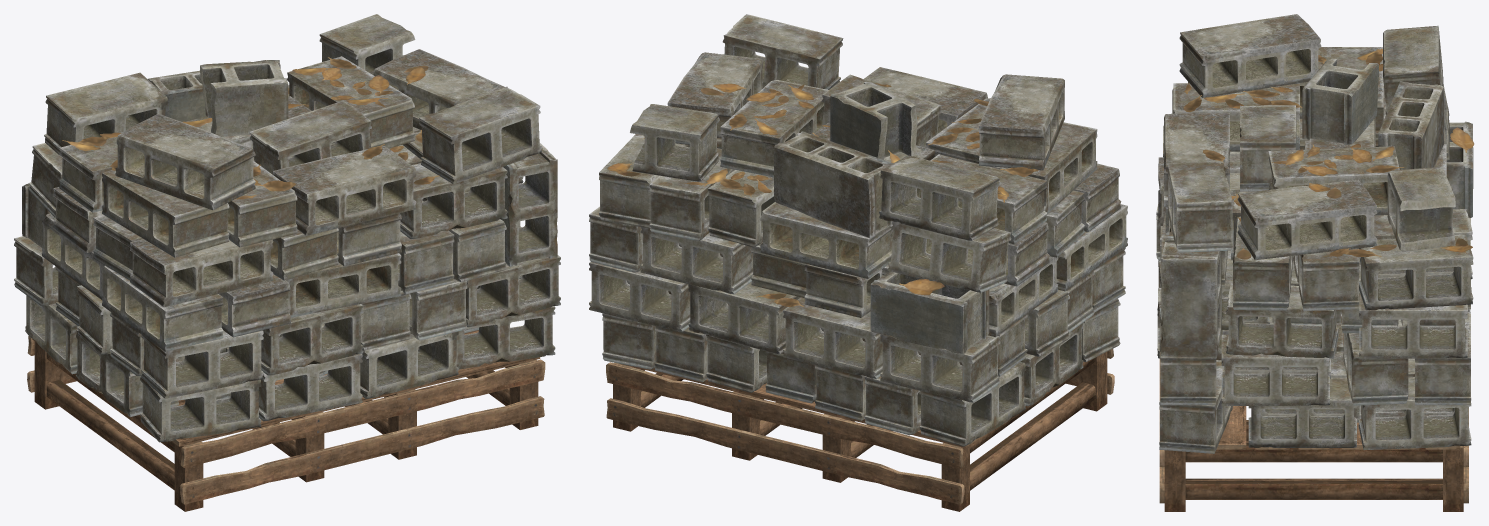
Rendered from BrickBlockerPile.fbx.
3 renders of one model, left to right at view 1: azimuth 30°, elevation 25°; view 2: azimuth 150°, elevation 25°; view 3: azimuth 270°, elevation 25°, orthographic.
Parts seen in each view (by area): view 1: SM_Eng_BrickBlockersPile01.mo; view 2: SM_Eng_BrickBlockersPile01.mo; view 3: SM_Eng_BrickBlockersPile01.mo.
Part boxes in pixels (box(x1,y1,x2,y2)): SM_Eng_BrickBlockersPile01.mo: box(14, 14, 560, 511); SM_Eng_BrickBlockersPile01.mo: box(589, 14, 1127, 511); SM_Eng_BrickBlockersPile01.mo: box(1156, 14, 1474, 511).
Size of the model in its own units: 176 by 142 by 122.
